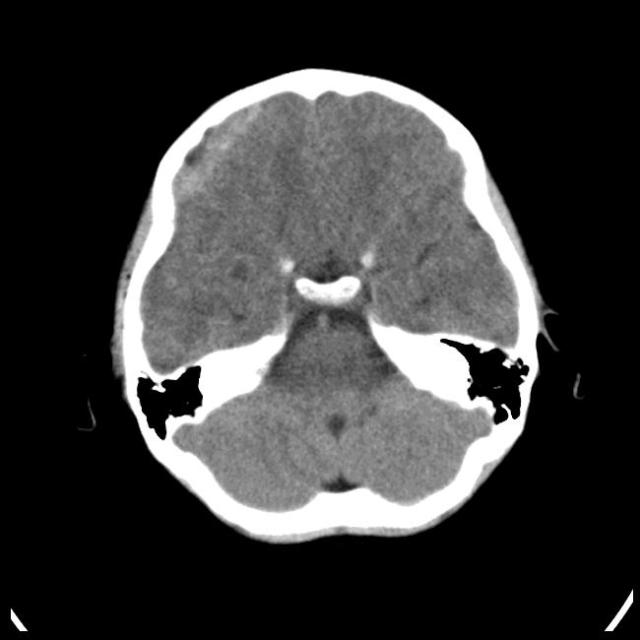lesion: (108, 68, 556, 545)
